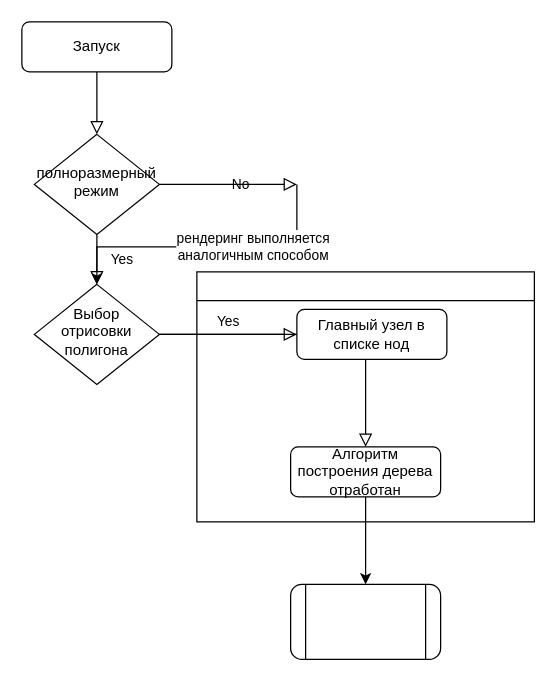
Image size: 556x681. Some labels were removed from this diagram. Each missing label, with the box of its shape:
Отрисовка карты: (289, 583, 441, 659)
Список объектов: (196, 271, 534, 522)
